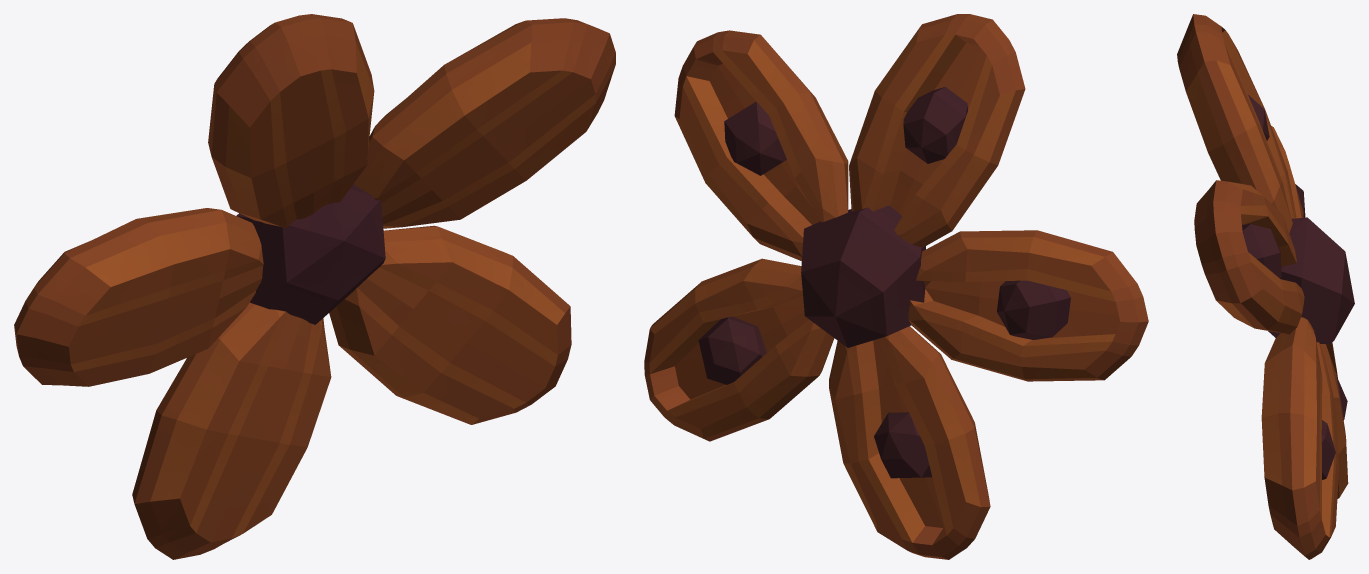
Rendered from Item_SeedStarLema.fbx.
3 views of the same model, side by side, from view 1: azimuth 30°, elevation 25°; view 2: azimuth 150°, elevation 25°; view 3: azimuth 270°, elevation 25° (orthographic). The views are drawn at different scales.
Visible parts, largest first — view 1: Cube.004; view 2: Cube.004; view 3: Cube.004.
Part boxes in pixels (x1,y1,x2,y2): Cube.004: (14, 14, 615, 559); Cube.004: (644, 14, 1148, 559); Cube.004: (1177, 14, 1354, 559).
Size of the model in its own units: 14.87 by 14.37 by 4.79.
